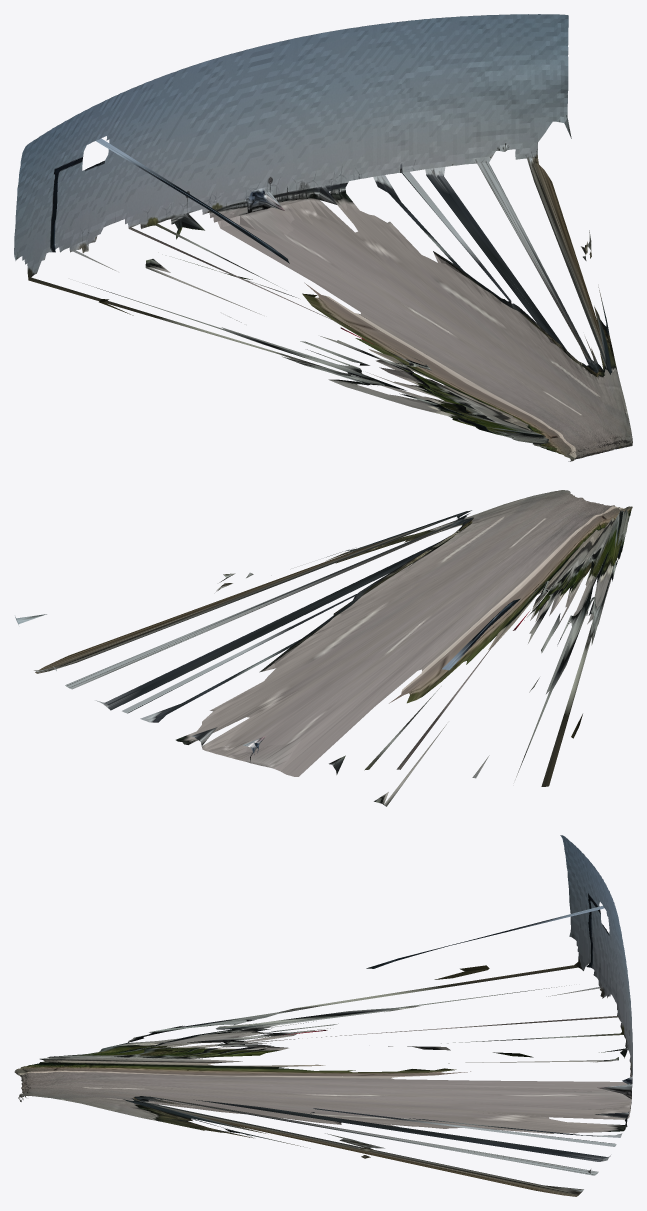
The picture shows the model from 3 angles, top to bottom: view 1: azimuth 30°, elevation 25°; view 2: azimuth 150°, elevation 25°; view 3: azimuth 270°, elevation 25°; orthographic projection. The views are drawn at different scales.
Visible parts, largest first — view 1: defaultobject; view 2: defaultobject; view 3: defaultobject.
Part boxes in pixels (x1,y1,x2,y2): defaultobject: (14,14,632,461); defaultobject: (15,490,632,806); defaultobject: (14,835,632,1196).
Size of the model in its own units: 41.11 by 13.51 by 44.67.
1 material, 1 textured.
